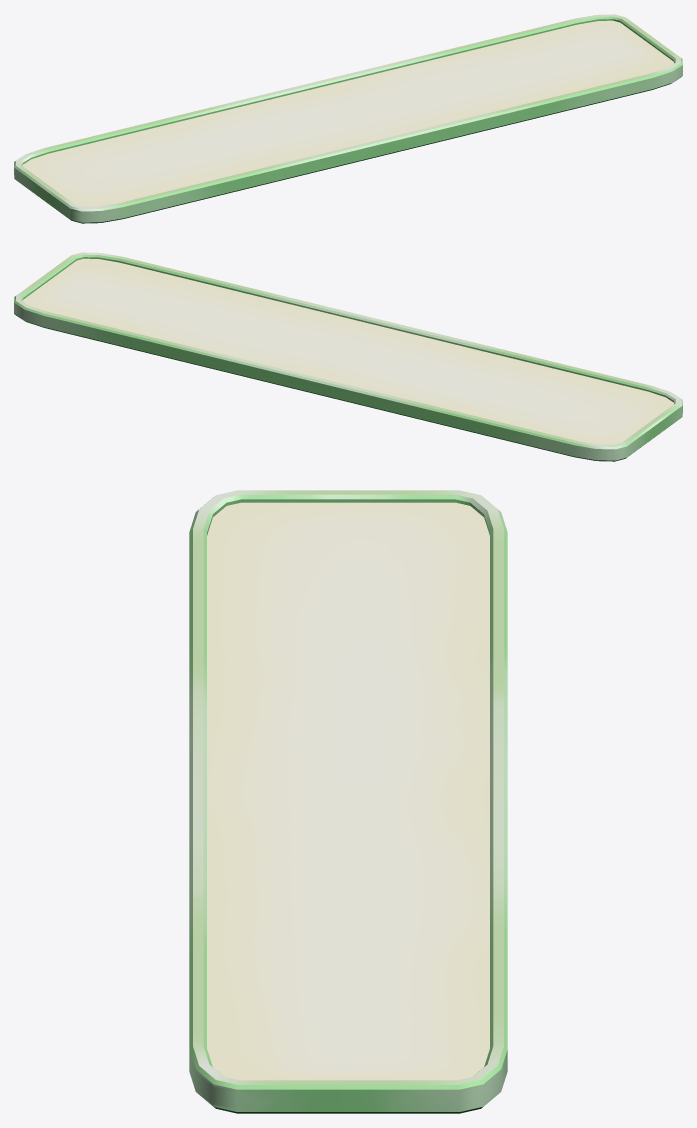
Rendered from BgMD_Bridge_01.fbx.
3 renders of one model, top to bottom at view 1: azimuth 30°, elevation 25°; view 2: azimuth 150°, elevation 25°; view 3: azimuth 270°, elevation 25°, orthographic. The views are drawn at different scales.
Parts seen in each view (by area): view 1: pCube1; view 2: pCube1; view 3: pCube1.
Boxes of the visible parts, <box> form: pCube1: <box>14,14,682,223</box>; pCube1: <box>14,252,682,461</box>; pCube1: <box>189,490,507,1113</box>.
Size of the model in its own units: 400 by 9 by 90.
